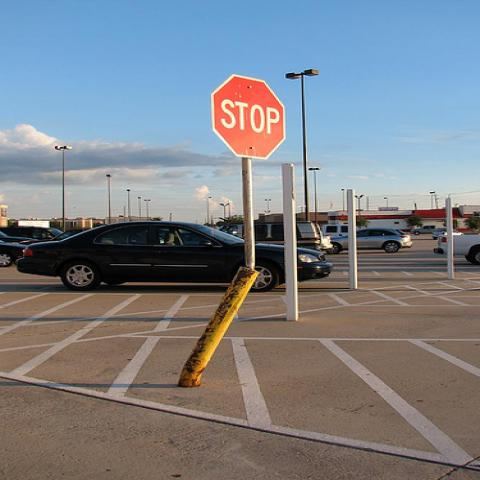car: (20, 221, 249, 289), (224, 222, 333, 254), (328, 228, 412, 254), (431, 234, 479, 267), (1, 232, 37, 268), (320, 224, 362, 238), (431, 227, 466, 240)
